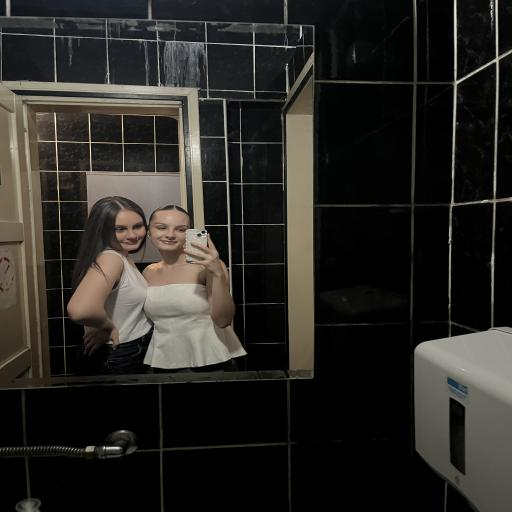marija: (152, 210, 192, 250)
